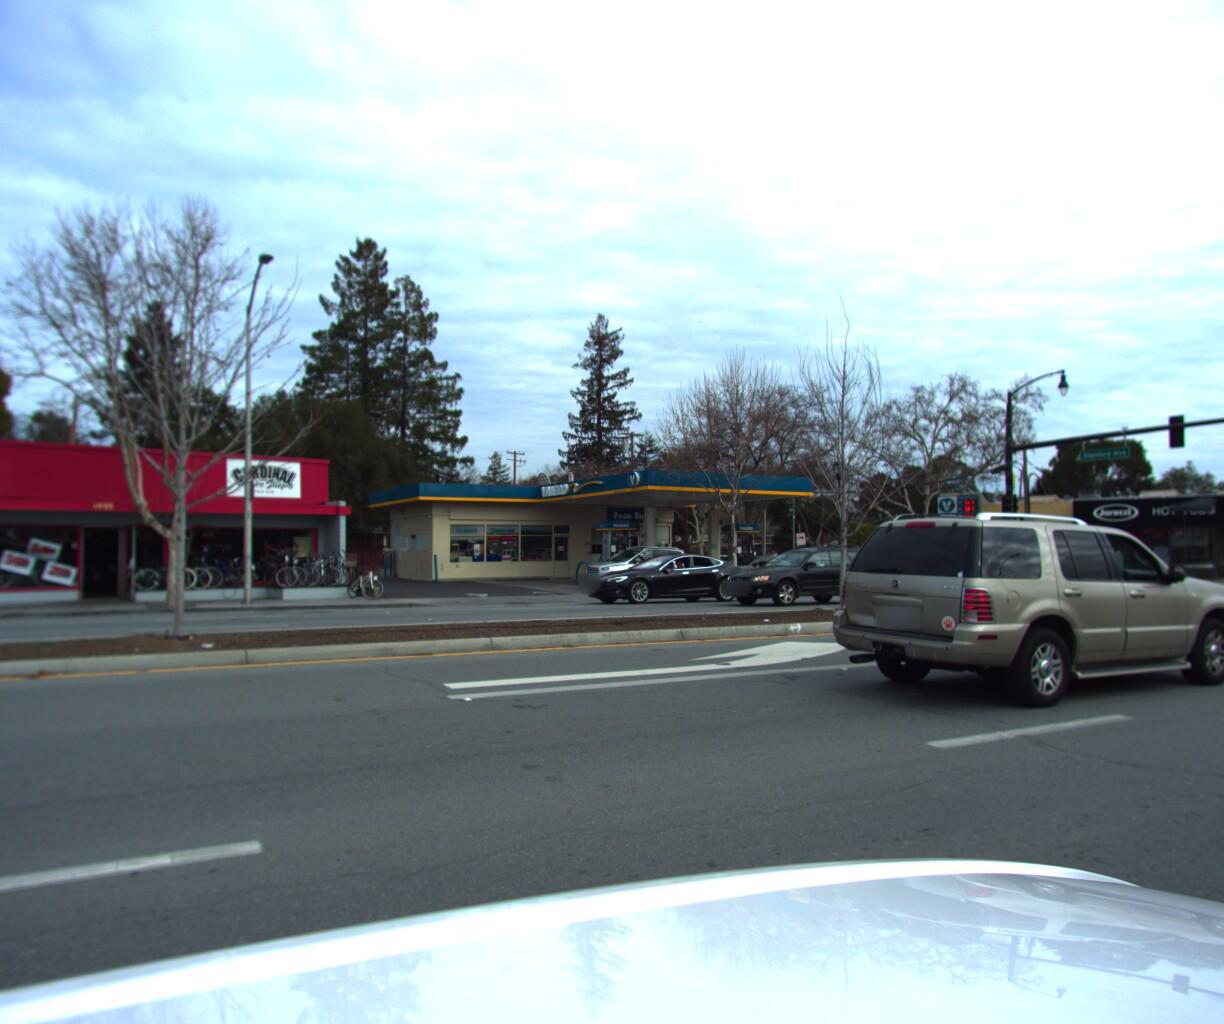bicycle: (344, 558, 390, 600)
car: (813, 508, 1224, 725), (719, 538, 896, 606), (582, 544, 750, 607), (572, 541, 701, 589), (690, 551, 811, 586)
other_vehicle: (317, 545, 371, 577)
